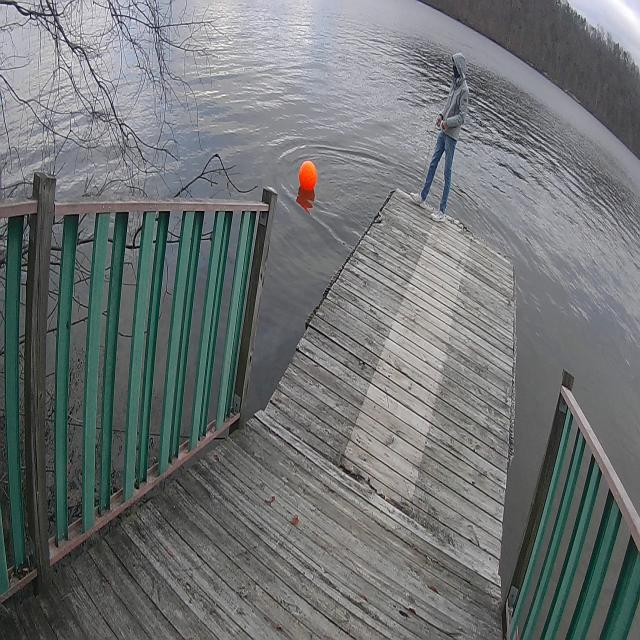Buoy: (298, 158, 318, 195)
